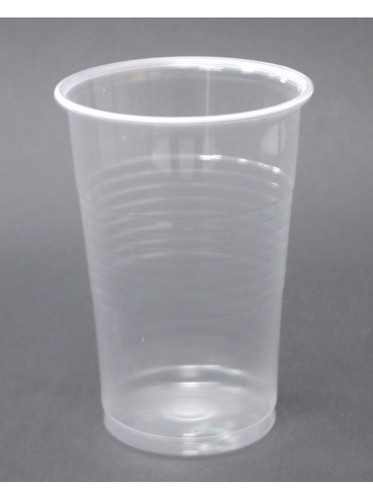plastic_bottle: (48, 53, 320, 461)
